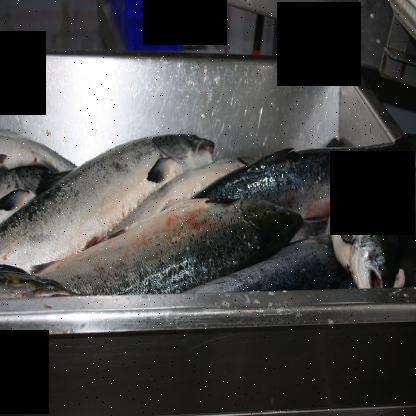fish: (0, 194, 306, 310), (0, 123, 218, 277)
